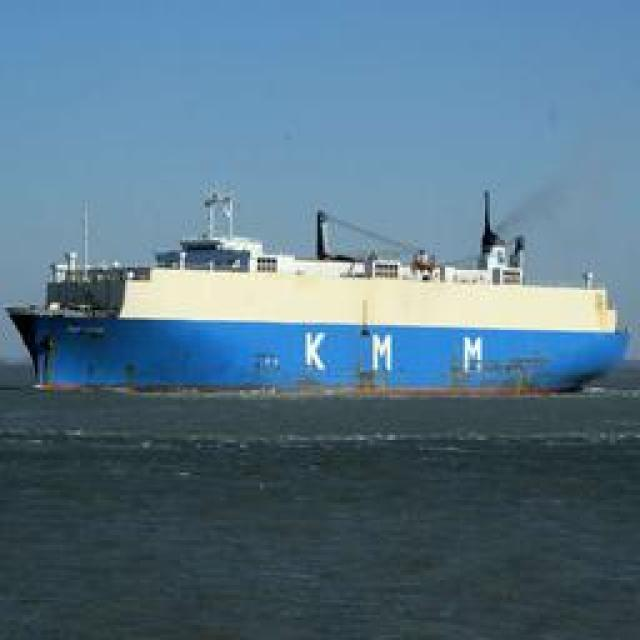CIV_Ship: (9, 191, 622, 401)
